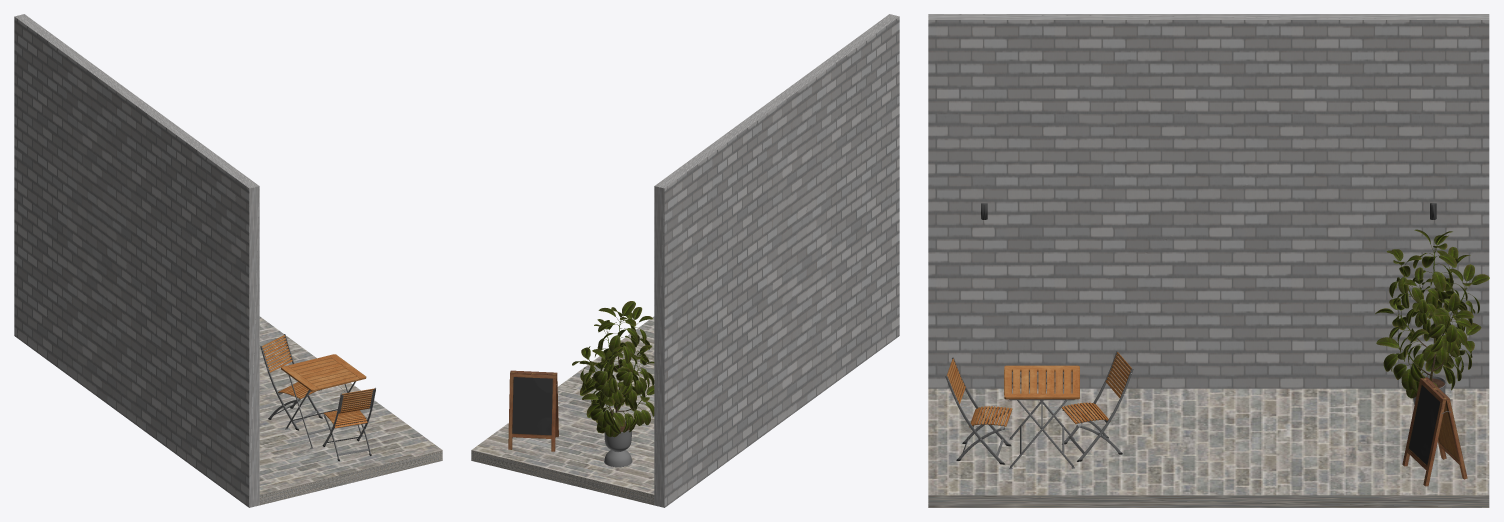
Rendered from neoncafe4-v1.glb.
3 renders of one model, left to right at view 1: azimuth 30°, elevation 25°; view 2: azimuth 150°, elevation 25°; view 3: azimuth 270°, elevation 25°, orthographic. The views are drawn at different scales.
Visible parts, largest first — view 1: Cube.001, Cube, outdoor_table_chair_set_01_chair_01, outdoor_table_chair_set_01_table; view 2: Cube.001, Cube, PlantLivingHourglass, standing_chalkboard_01; view 3: Cube.001, Cube, PlantLivingHourglass, outdoor_table_chair_set_01_chair_01, standing_chalkboard_01, outdoor_table_chair_set_01_table.
Boxes of the visible parts, x1,y1,x2,y2 form: Cube.001: (14, 14, 259, 507); Cube: (259, 316, 442, 505); outdoor_table_chair_set_01_chair_01: (260, 334, 375, 461); outdoor_table_chair_set_01_table: (281, 354, 366, 448); Cube.001: (654, 14, 899, 507); Cube: (471, 316, 654, 505); PlantLivingHourglass: (572, 301, 654, 467); standing_chalkboard_01: (508, 370, 558, 451); Cube.001: (928, 14, 1489, 388); Cube: (928, 388, 1489, 507); PlantLivingHourglass: (1375, 229, 1489, 404); outdoor_table_chair_set_01_chair_01: (945, 351, 1133, 464); standing_chalkboard_01: (1402, 377, 1467, 486); outdoor_table_chair_set_01_table: (1004, 365, 1079, 468).
Bounding box in the file's own units: 3.8 × 6 × 8.01.
15 materials, 11 textured.
